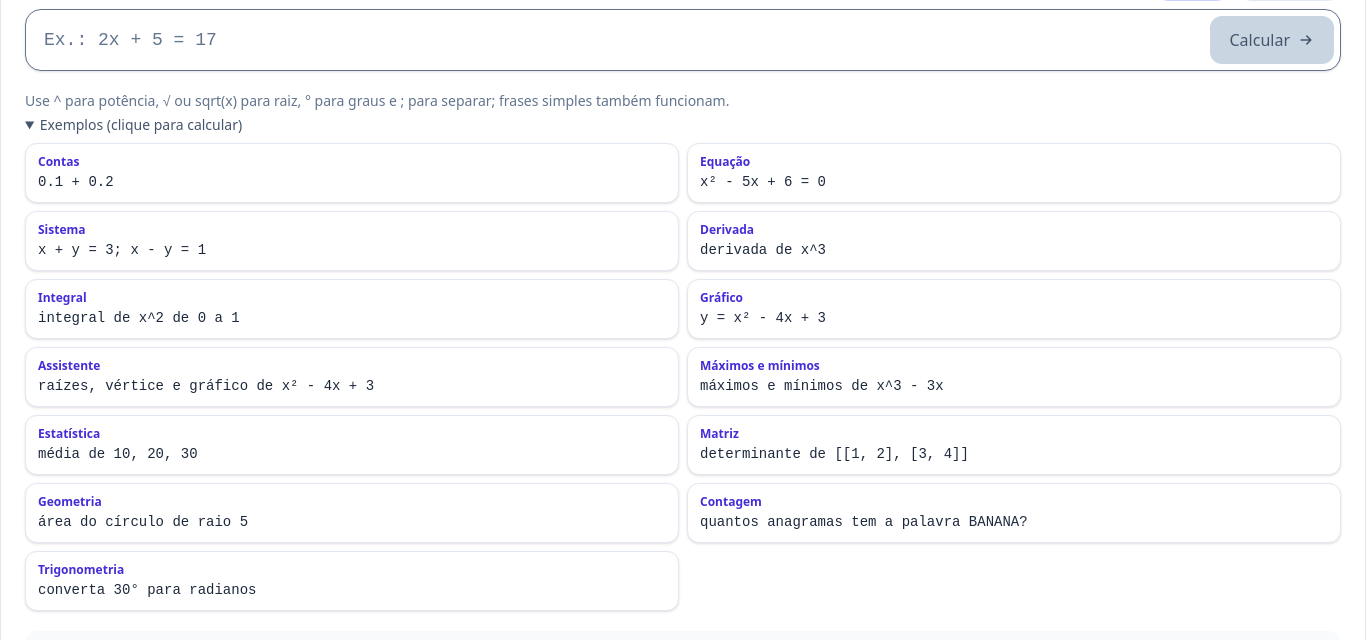
Test: Calculator › shows a domain change warning
Type "(x^2 - 1)/(x - 1)" into the field labelled "Expressão ou equação".
click(617, 40); type("(x^2 - 1)/(x - 1)")  # box top-left (32, 16), bottom-right (1202, 64)
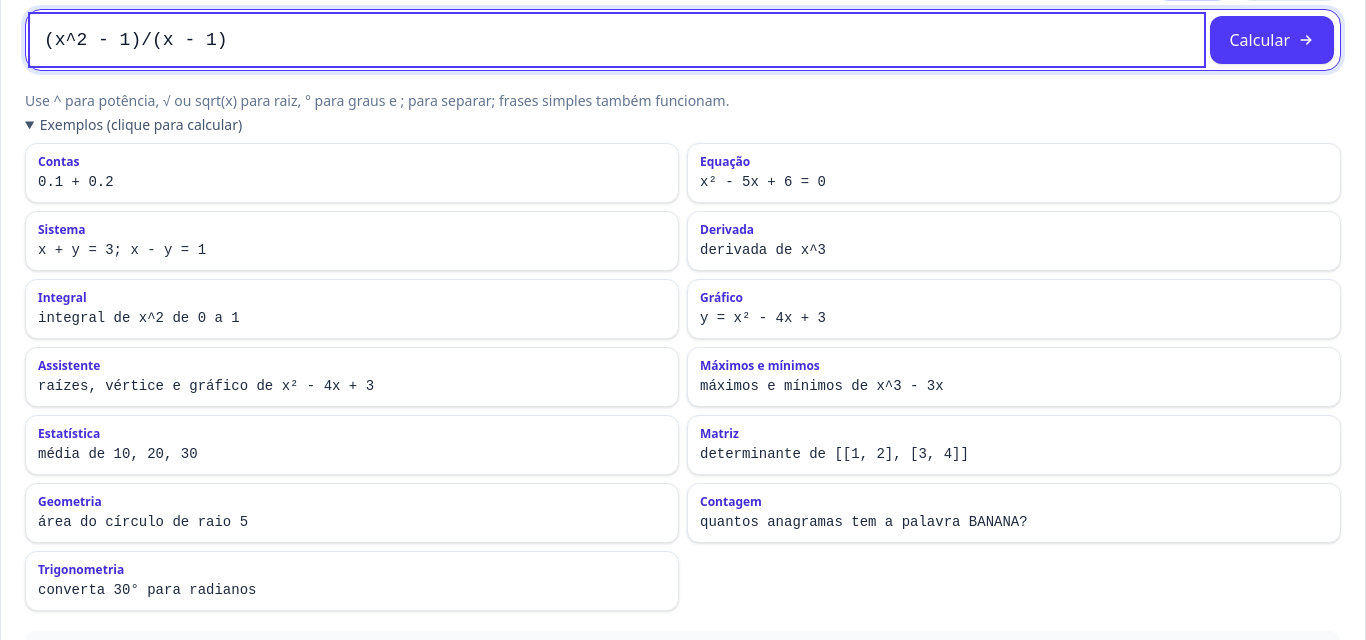
Click the button "Calcular".
click(1272, 40)  # box top-left (1210, 16), bottom-right (1334, 64)
(page scrolled)
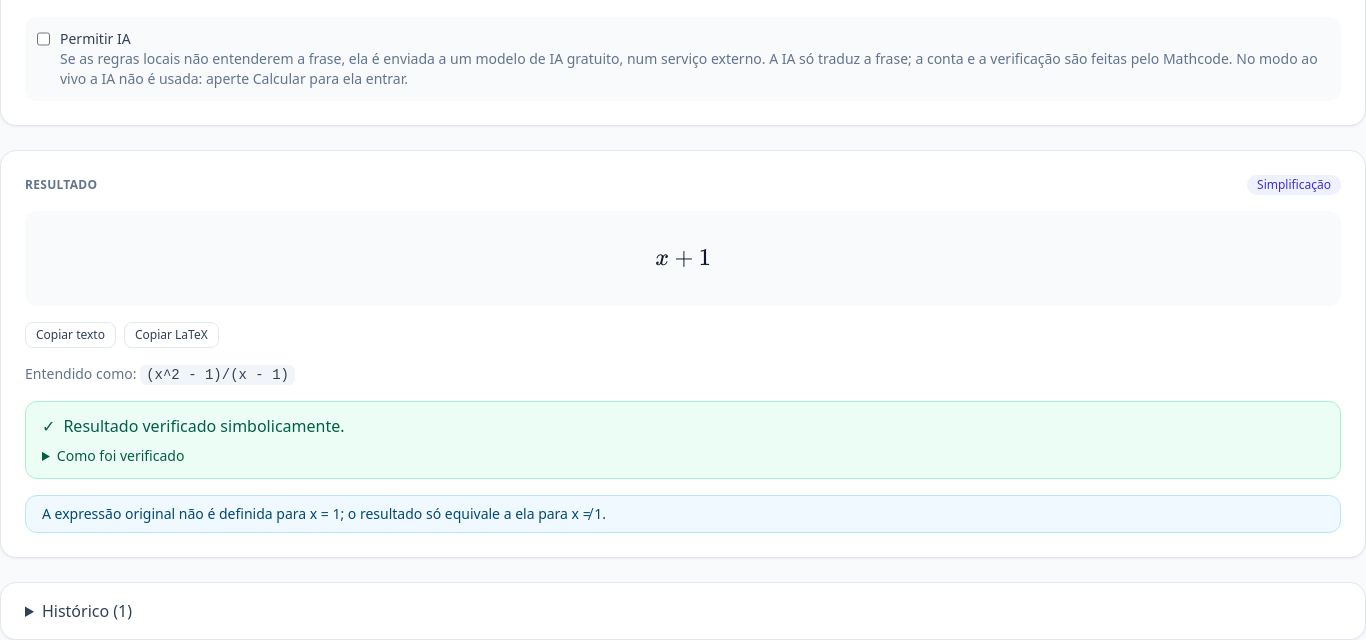
Expected: the list item "só equivale a ela para x ≠ 1" is shown, top-left (42, 504), bottom-right (606, 523)
